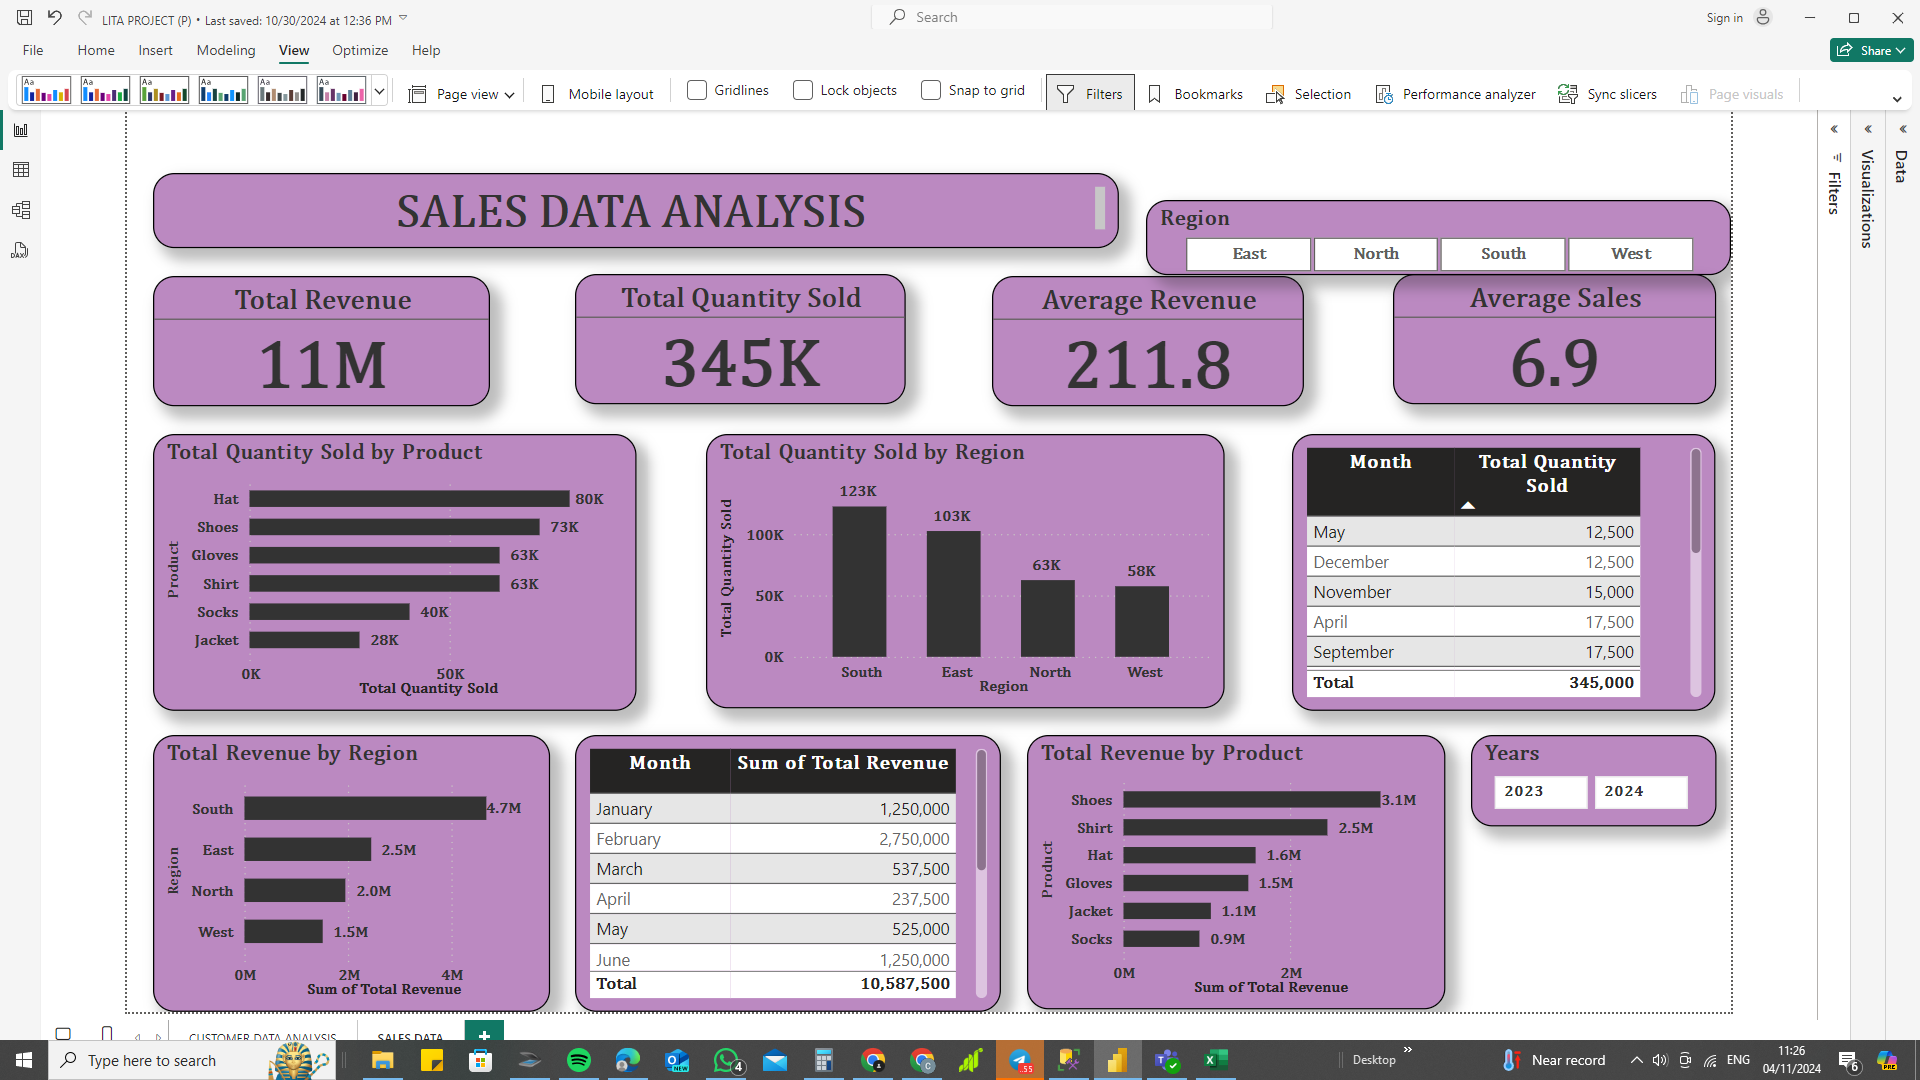

What the dashboard file says about the page in this screenshot:
{"tool":"powerbi","page":{"name":"SALES DATA","canvas":[1280,720],"ordinal":1},"visuals":[{"type":"card","title":"Total Revenue","fields":{"Values":["Sum(SalesData.Total Revenue)"]},"box":[20.4,132.3,269.4,104.1],"z":0},{"type":"card","title":"Total Quantity Sold","fields":{"Values":["SalesData.Total Sales"]},"box":[357.9,131.3,263.6,104.1],"z":1000},{"type":"card","title":"Average Revenue","fields":{"Values":["SalesData.Average Revenue"]},"box":[690.6,132.3,249,104.1],"z":2000},{"type":"card","title":"Average Sales","fields":{"Values":["SalesData.Average Sales"]},"box":[1010.6,131.3,257.8,104.1],"z":3000},{"type":"textbox","box":[20.4,50.3,771.3,60.3],"z":4000},{"type":"slicer","title":"Region","fields":{"Values":["SalesData.Region"]},"box":[801.5,50.3,466.9,60.3],"z":5000},{"type":"clusteredBarChart","title":"Total Quantity Sold by Product","fields":{"Y":["SalesData.Total Sales"],"Category":["SalesData.Product"]},"box":[20.4,258.7,386.1,220.8],"z":6000},{"type":"clusteredColumnChart","title":"Total Quantity Sold by Region","fields":{"Category":["SalesData.Region"],"Y":["SalesData.Total Sales"]},"box":[462,258.7,414.3,218.8],"z":7000},{"type":"tableEx","fields":{"Values":["SalesData.OrderDate.Variation.Date Hierarchy.Month","SalesData.Total Sales"]},"box":[929.8,258.7,338.5,220.8],"z":8000},{"type":"clusteredBarChart","title":"Total Revenue by Product","fields":{"Y":["Sum(SalesData.Total Revenue)"],"Category":["SalesData.Product"]},"box":[718.8,499,333.6,218.8],"z":9000},{"type":"clusteredBarChart","title":"Total Revenue by Region","fields":{"Y":["Sum(SalesData.Total Revenue)"],"Category":["SalesData.Region"]},"box":[20.4,499,317.1,220.8],"z":10000},{"type":"tableEx","fields":{"Values":["SalesData.OrderDate.Variation.Date Hierarchy.Month","Sum(SalesData.Total Revenue)"]},"box":[357.9,499,340.4,220.8],"z":11000},{"type":"slicer","title":"Years","fields":{"Values":["SalesData.Year"]},"box":[1072.8,499,195.5,72.9],"z":12000}]}

Visuals, with their boxes on the page's 1280x720 design canvas (x1, y1, x2, y2). These are canvas units, not pixel positions in the 1920x1080 screenshot, which may show the page scaled, cropped or inside an application window:
"Total Revenue" card: [x1=20, y1=132, x2=290, y2=236]
"Total Quantity Sold" card: [x1=358, y1=131, x2=622, y2=235]
"Average Revenue" card: [x1=691, y1=132, x2=940, y2=236]
"Average Sales" card: [x1=1011, y1=131, x2=1268, y2=235]
textbox: [x1=20, y1=50, x2=792, y2=111]
"Region" slicer: [x1=802, y1=50, x2=1268, y2=111]
"Total Quantity Sold by Product" clusteredBarChart: [x1=20, y1=259, x2=406, y2=480]
"Total Quantity Sold by Region" clusteredColumnChart: [x1=462, y1=259, x2=876, y2=478]
tableEx - SalesData.OrderDate.Variation.Date Hierarchy.Month x SalesData.Total Sales: [x1=930, y1=259, x2=1268, y2=480]
"Total Revenue by Product" clusteredBarChart: [x1=719, y1=499, x2=1052, y2=718]
"Total Revenue by Region" clusteredBarChart: [x1=20, y1=499, x2=338, y2=720]
tableEx - SalesData.OrderDate.Variation.Date Hierarchy.Month x Sum(SalesData.Total Revenue): [x1=358, y1=499, x2=698, y2=720]
"Years" slicer: [x1=1073, y1=499, x2=1268, y2=572]
